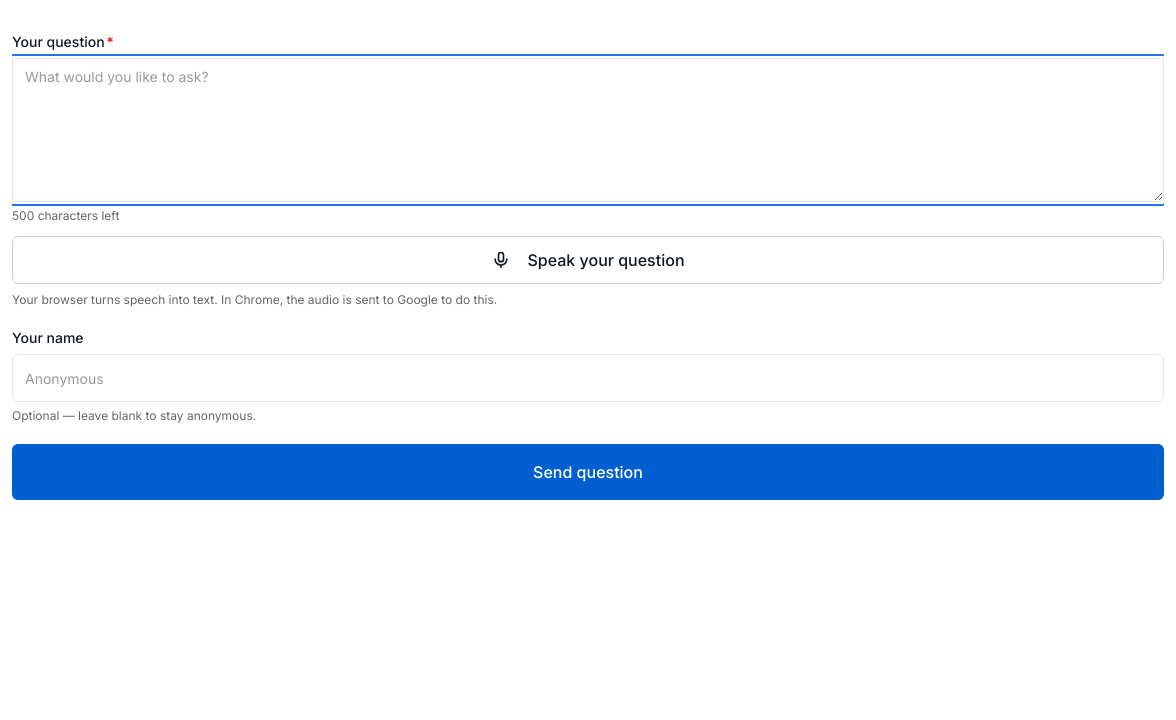
Test: client-side validation › refuses a too-short question and returns focus to the box
Type "short" into the text box labelled "Your question*" at (588, 130), box [12, 58, 1164, 202]
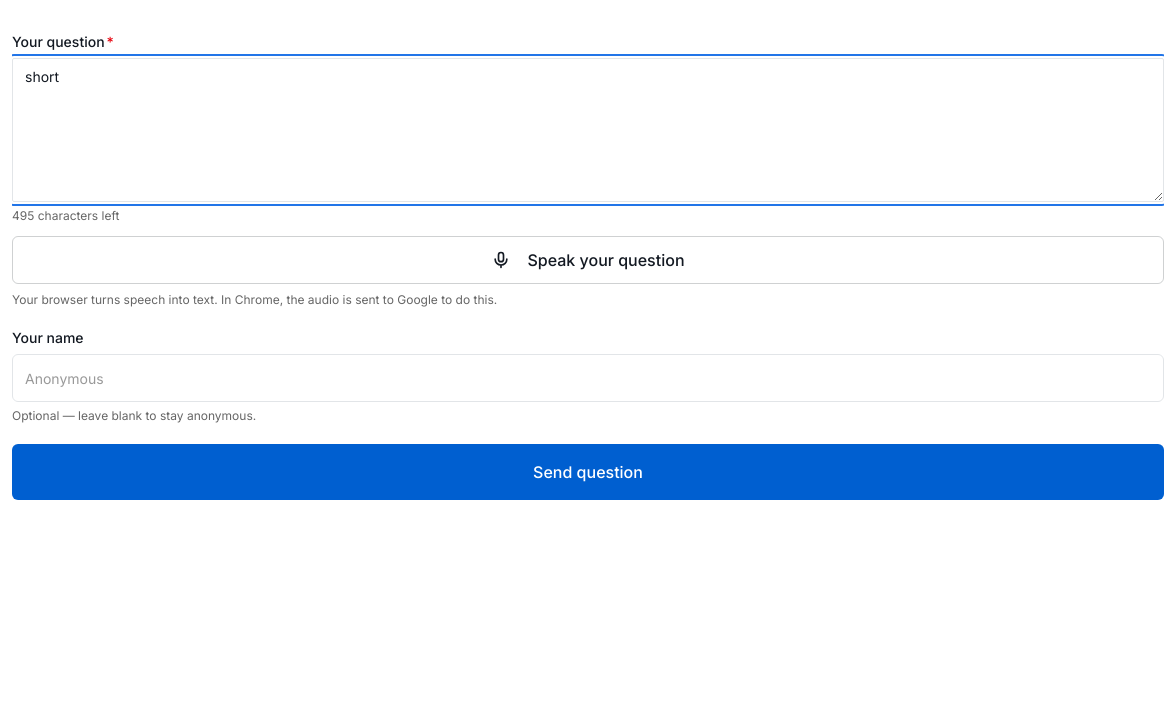
Click the button "Send question" at (588, 472), box [12, 444, 1164, 500]
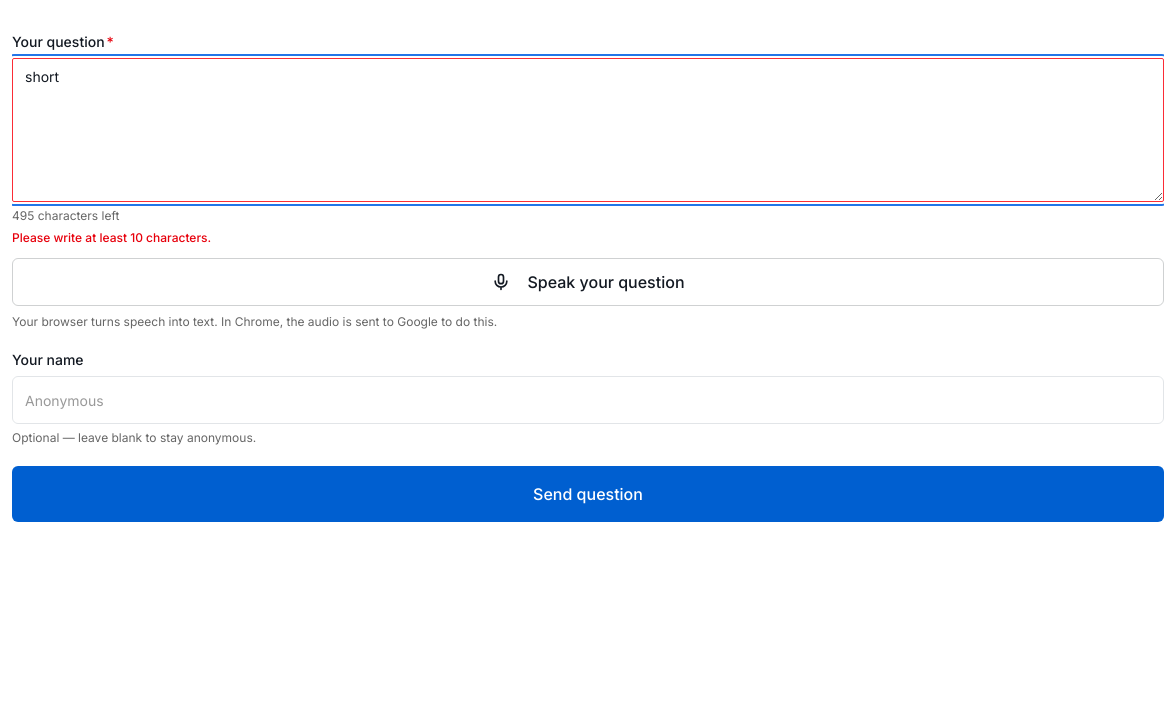
Expected: the text "Please write at least 10 characters." is shown, [12, 230, 211, 245]
